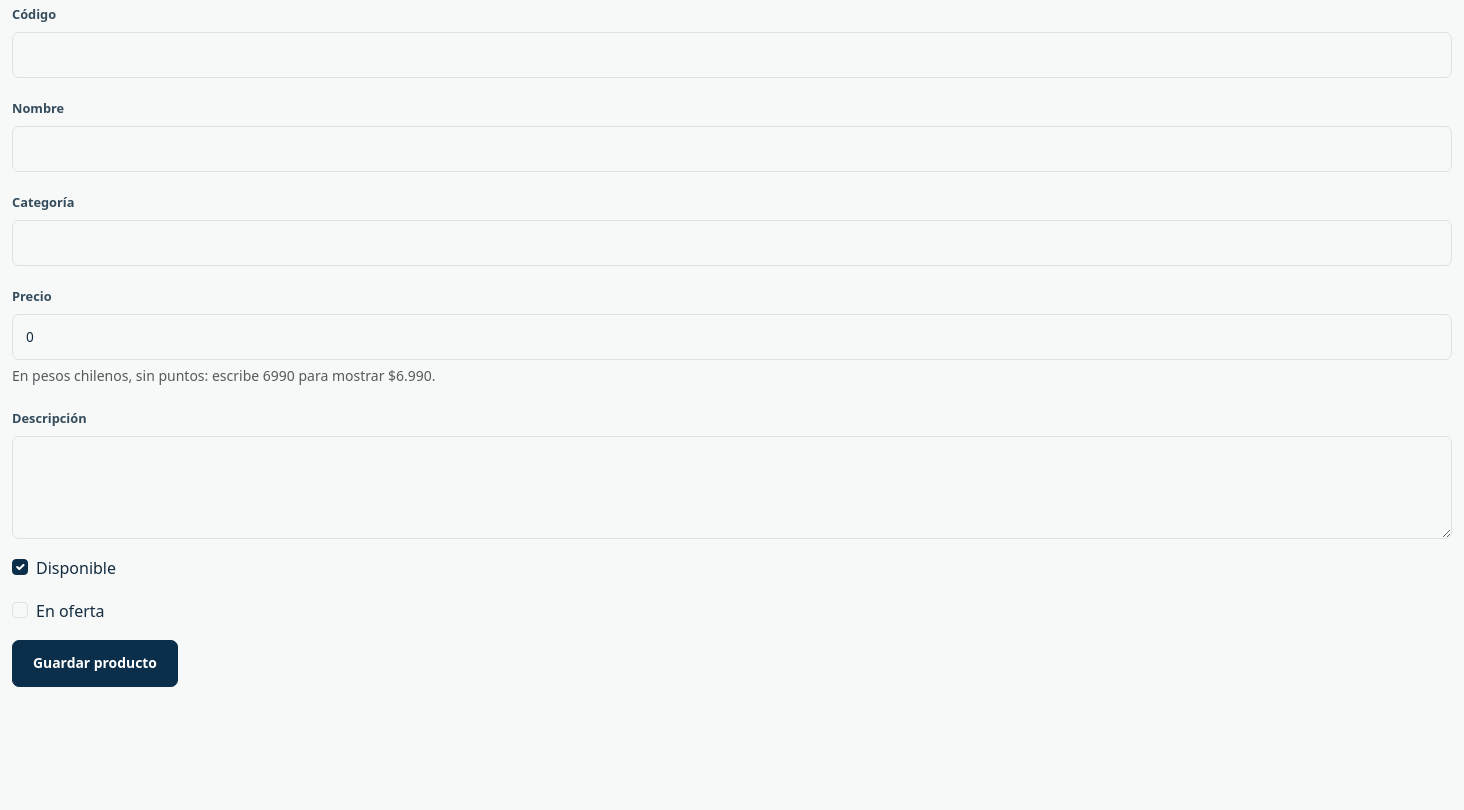
it: el formulario de producto no guarda datos inválidos
This screenshot has width=1464, height=810.
Click the button "Guardar producto" at (95, 663), box [12, 640, 178, 687]
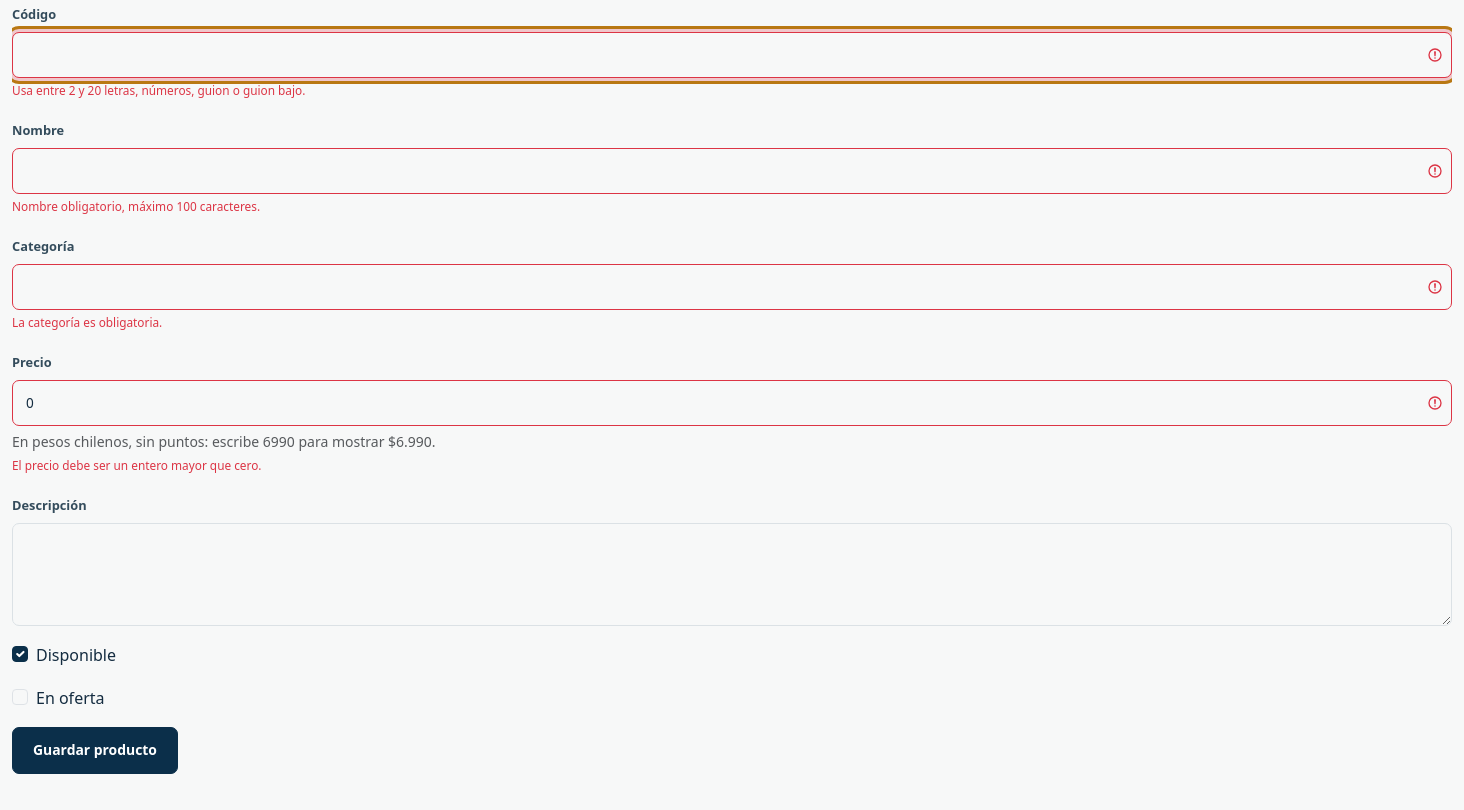
Check: the number of messages is 4, box [12, 82, 305, 98]; [12, 198, 260, 214]; [12, 314, 162, 330]; [12, 457, 262, 473]
